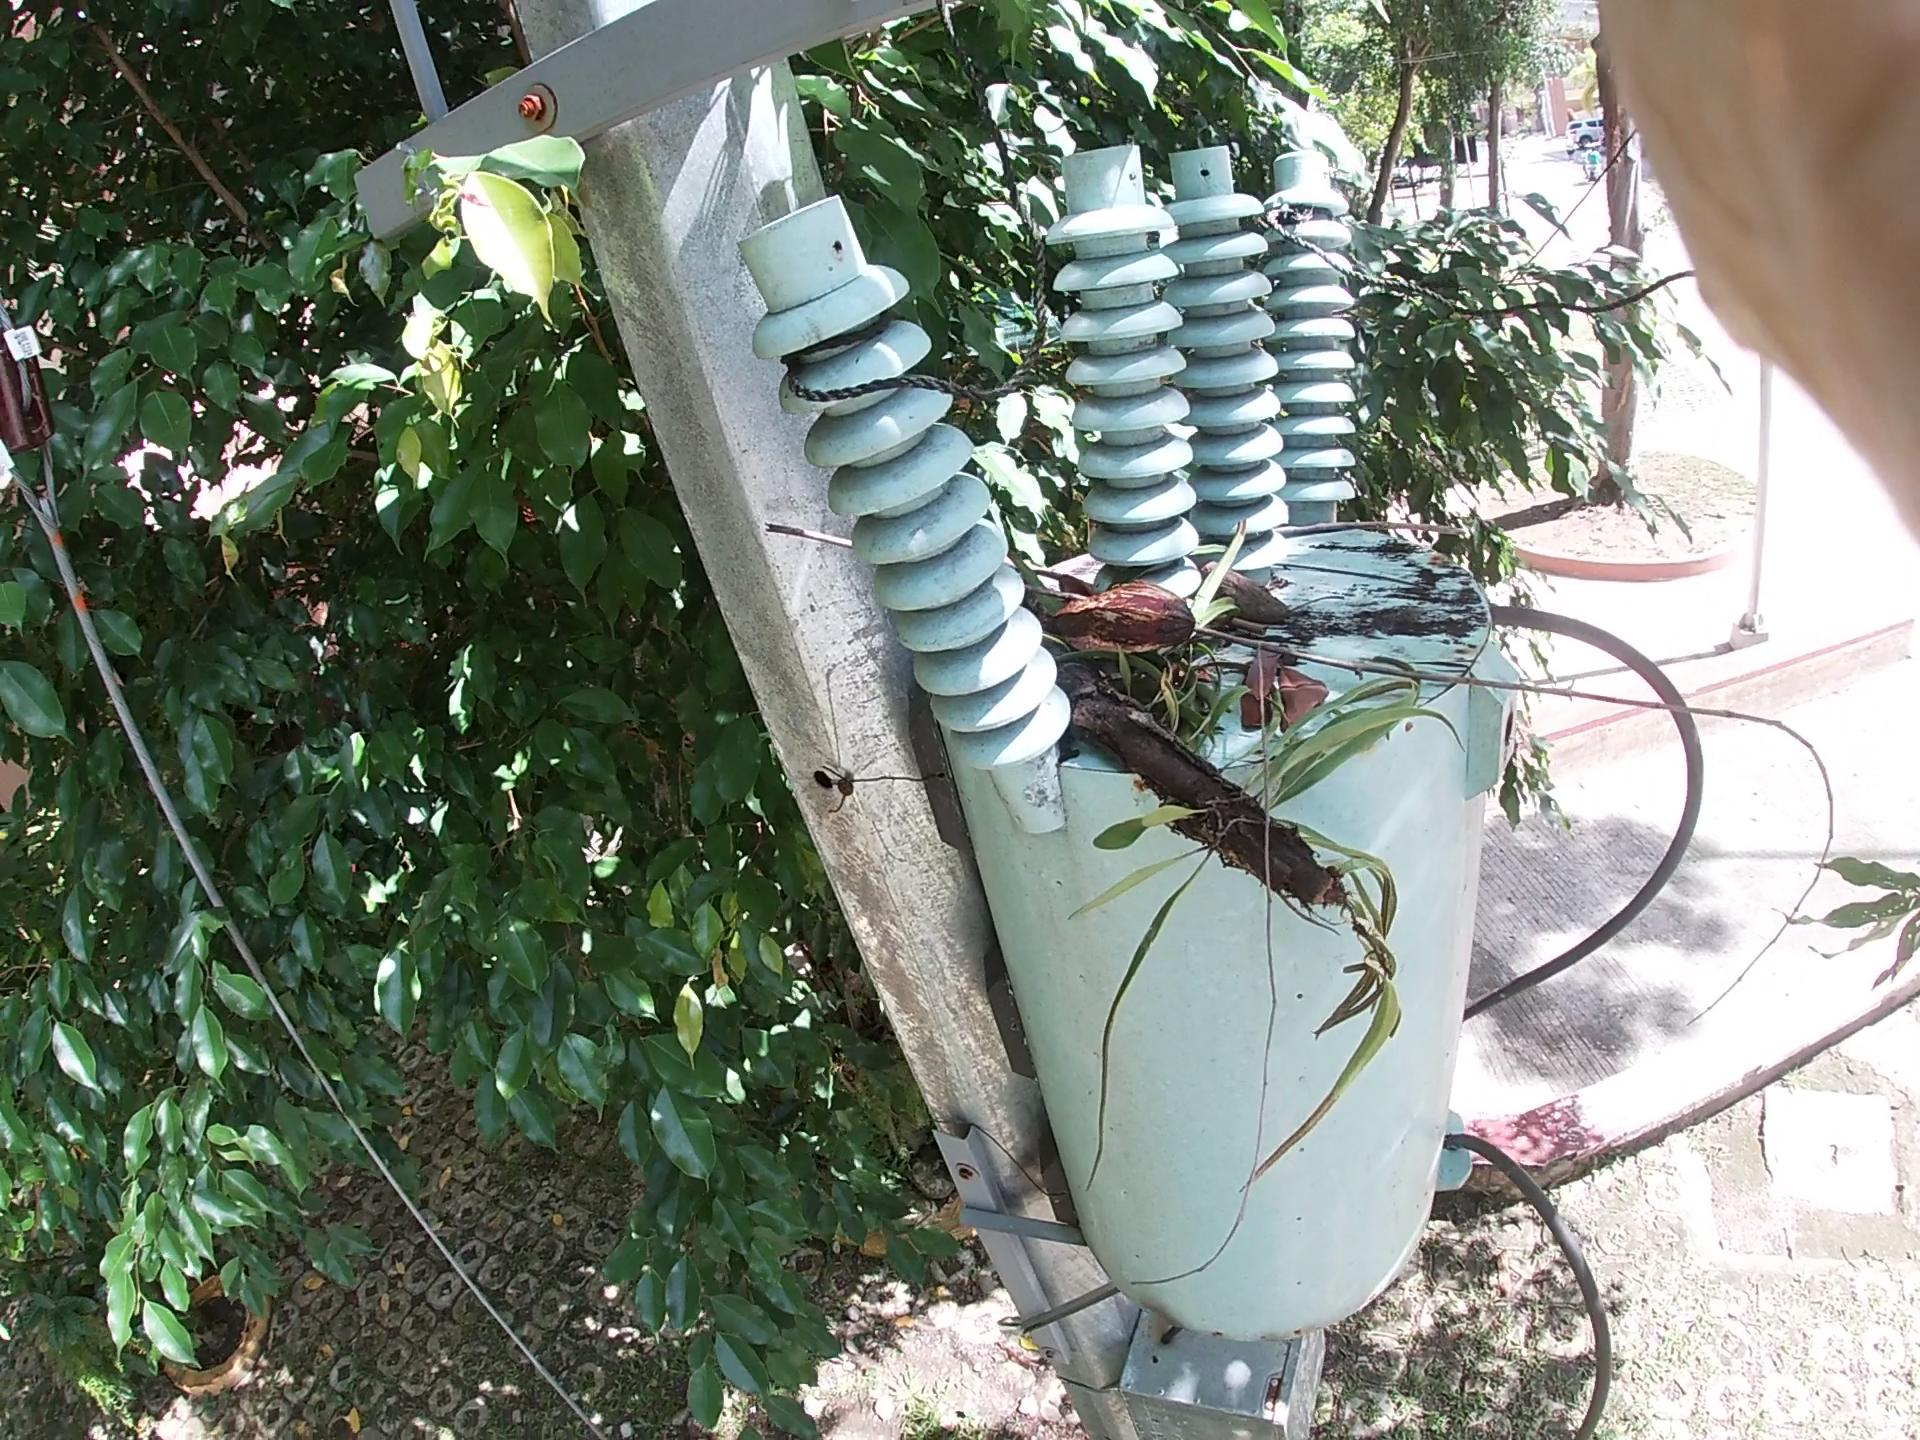branch with leaves: (1002, 532, 1640, 1044)
leaf: (1137, 637, 1359, 746)
mahogany fruit: (990, 522, 1312, 691)
tree branch: (721, 501, 1920, 889), (1203, 493, 1501, 569), (1246, 602, 1324, 640)
